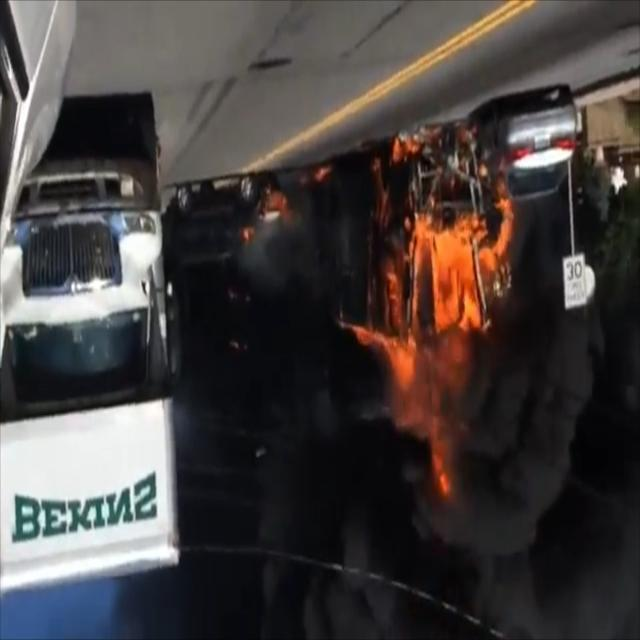fire: (340, 136, 516, 474)
